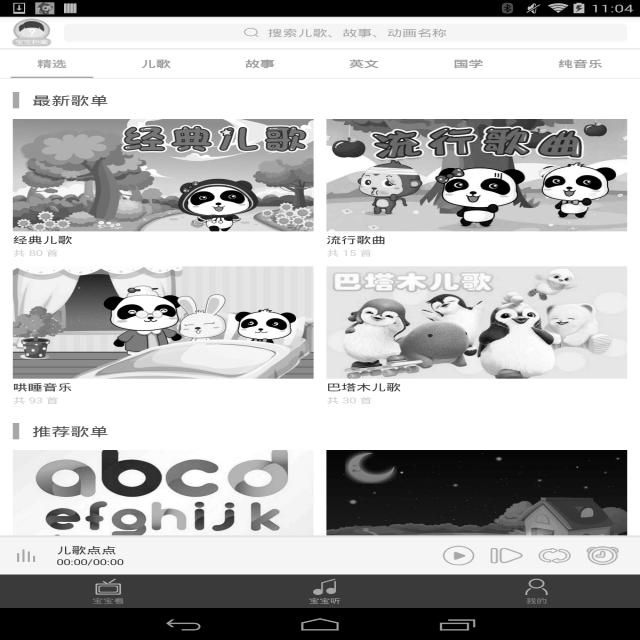ImageView: (12, 266, 314, 379), (327, 266, 628, 379), (12, 119, 314, 231), (12, 450, 314, 562), (327, 119, 628, 231), (327, 450, 628, 562), (432, 537, 480, 574), (480, 537, 528, 574), (528, 537, 576, 574), (576, 537, 624, 574), (12, 19, 51, 46), (17, 549, 35, 562)
ProgressBar: (0, 536, 640, 538)
RadioButton: (0, 575, 217, 608), (217, 575, 433, 608), (433, 575, 640, 608)
TextView: (520, 48, 640, 78), (416, 48, 521, 78), (0, 48, 104, 78), (104, 48, 208, 78), (208, 48, 312, 78), (312, 48, 416, 78), (244, 26, 447, 39), (32, 92, 109, 108), (32, 423, 109, 439), (326, 381, 401, 393), (56, 556, 124, 568), (13, 233, 72, 246), (327, 233, 386, 246), (13, 381, 72, 393), (57, 544, 116, 556), (12, 394, 58, 406), (327, 394, 372, 406), (12, 248, 58, 258), (327, 248, 372, 258)
